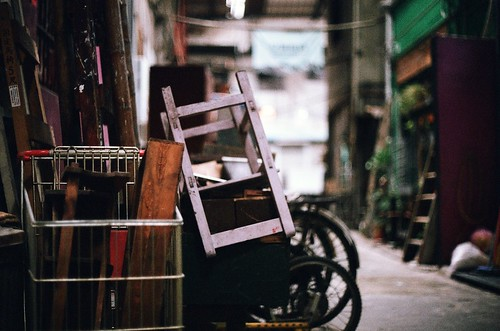trash: (1, 77, 361, 331)
